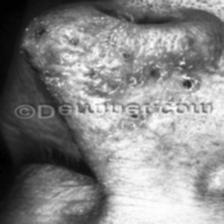Non-Cancerous Skin Condition: (27, 21, 224, 99)
